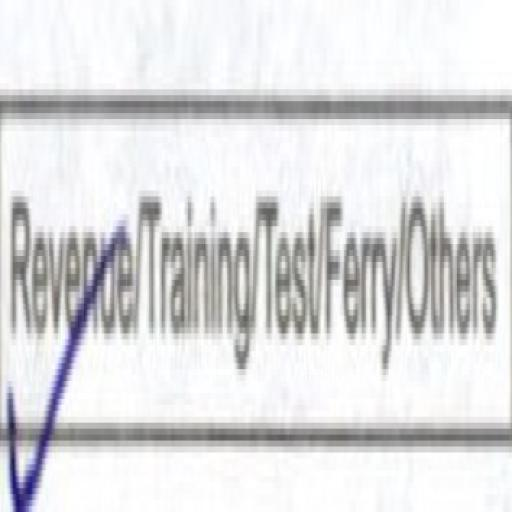check: (0, 38, 140, 502)
